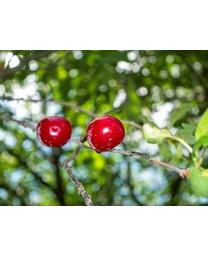cherry: (86, 116, 125, 151), (36, 115, 71, 147)
